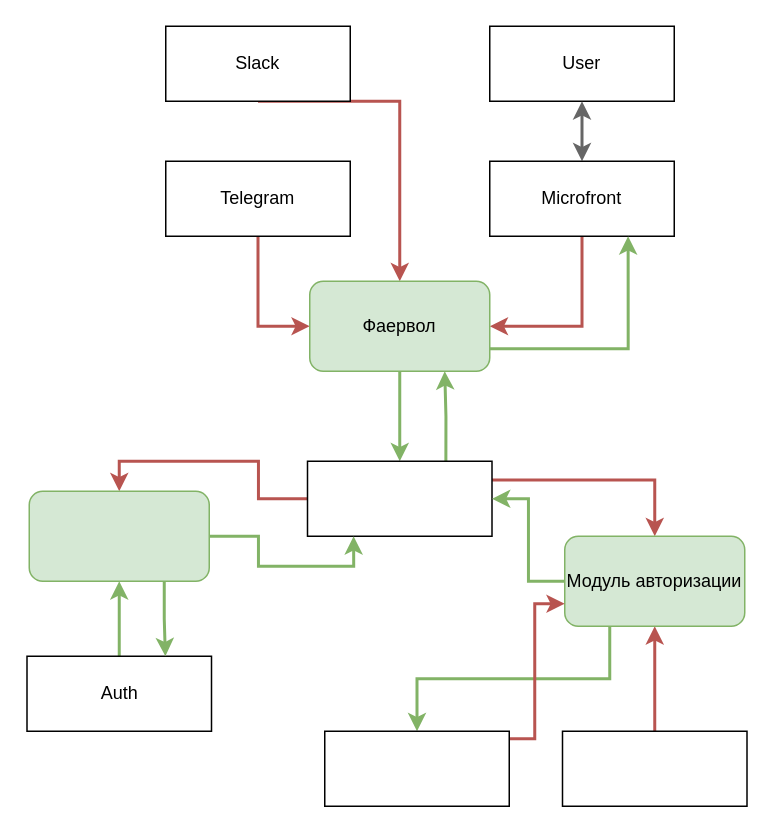
Image size: 773x833. Some labels were removed from this diagram. Each missing label, with the centre of its shape:
"Backend application" goes at point 399,498.
"PostgreSQL" goes at point 416,768.
"S3" goes at point 654,768.
"Модуль проверки подлинности" goes at point 118,535.
